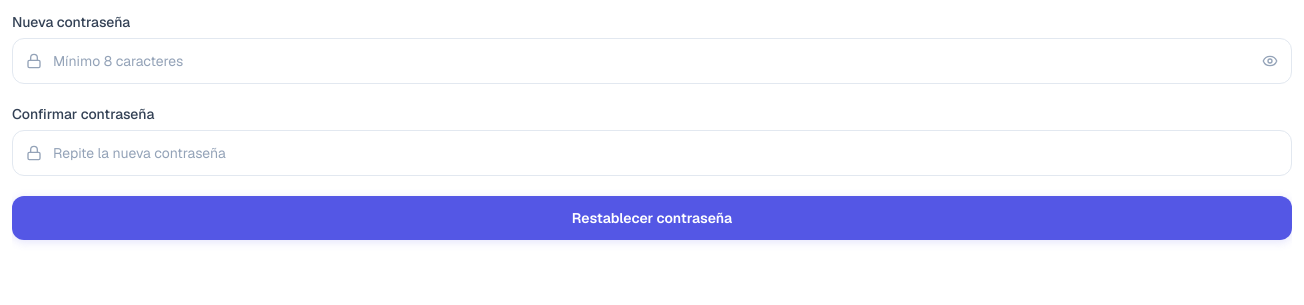
Scenario: ResetPasswordForm › muestra errores de validación con campos vacíos
Step 1. Click the button "Restablecer contraseña" → point(652, 218), box [12,196,1292,240]
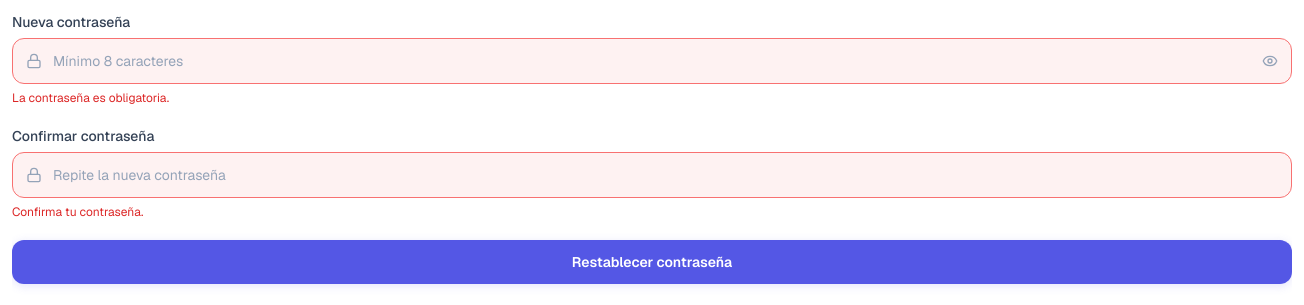
Result: the text "La contraseña es obligatoria." is shown at [12,90,169,106]
Result: the text "Confirma tu contraseña." is shown at [12,204,143,220]
